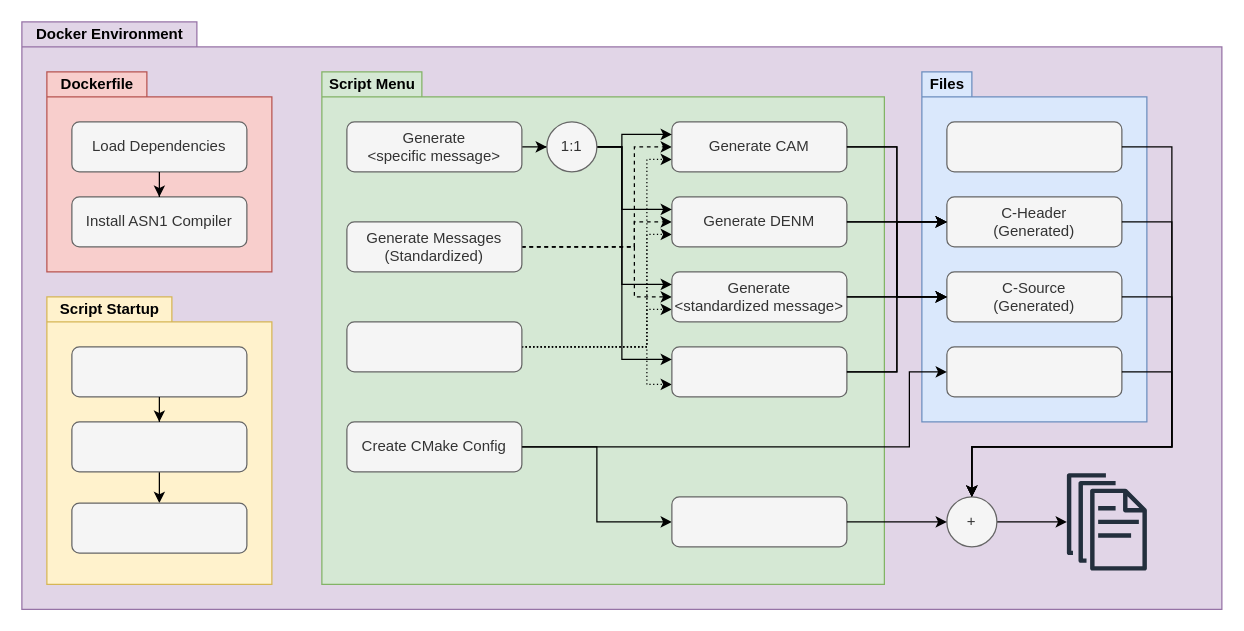
The diagram is 1244 pixels wide and 631 high, and some of its shapes have lost their labels. Here are the shapes that lost their labels. From the top down, the centre of each, then its label:
the point at 1034,146: C++ Wrapper (Autoload)
the point at 434,346: Generate Messages (incl. Experimental)
the point at 159,371: Autoload ETSI ITS messages
the point at 759,371: Generate <experimental message>
the point at 1034,371: CMake Config (Generated)
the point at 159,446: Autoload Message Dependencies
the point at 159,527: Autoload Experimental Messages
the point at 759,521: Create Library
the point at 1106,521: vcitslib
